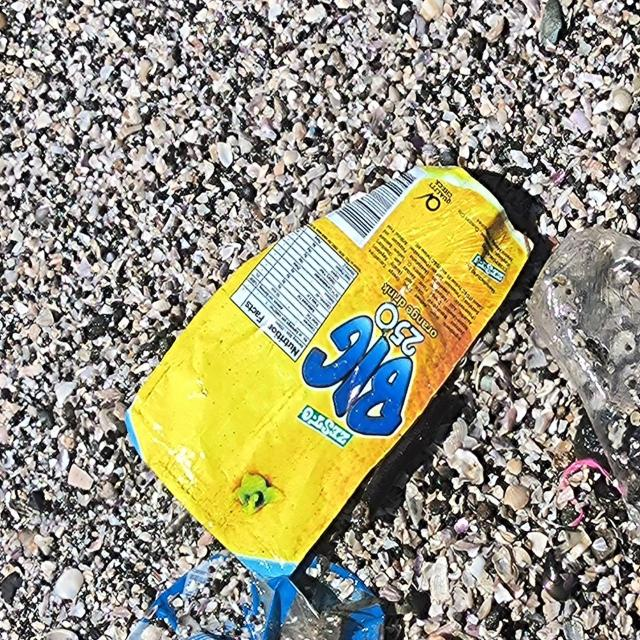plastic_waste: (116, 158, 536, 586)
